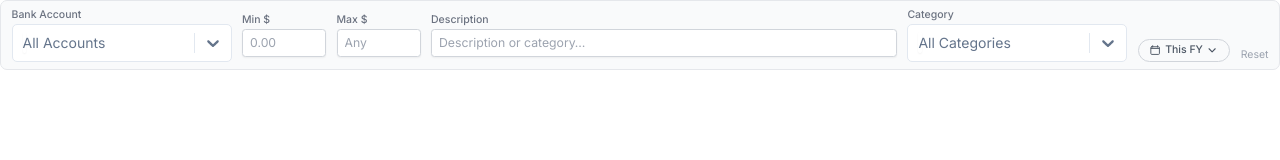
TransactionFilters › clicking Period chip opens the accordion
Click the button with aria-label "period filter".
click(1184, 50)  # box [1138,39,1230,62]
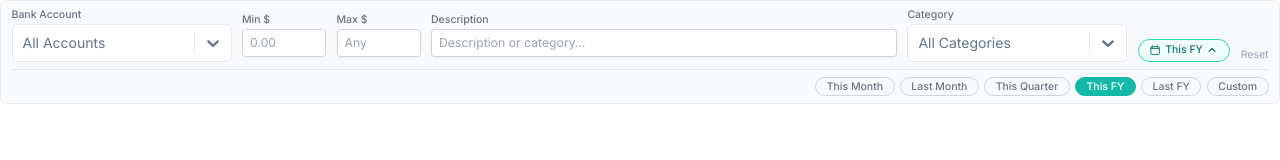
Expected: the button "This Month" is shown, [815,77,895,96]
Expected: the button "Custom" is shown, [1207,77,1268,96]
